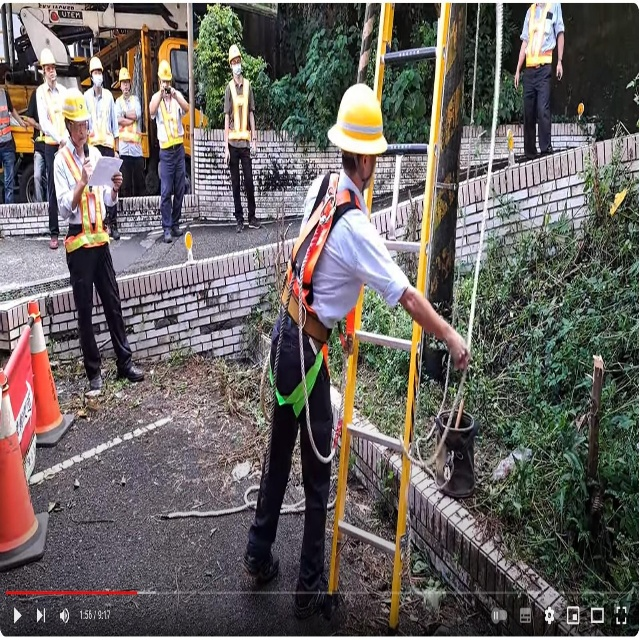Arnes_seguridad: (268, 169, 362, 457)
